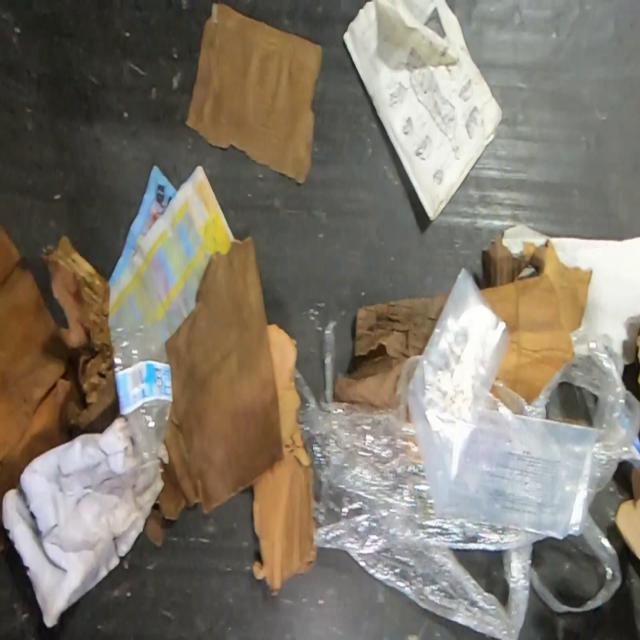cardboard: (0, 224, 120, 529), (480, 230, 593, 404), (250, 321, 319, 598), (334, 293, 448, 407), (614, 462, 640, 564)
rigid_plastic: (107, 318, 174, 479)
soft_plastic: (293, 317, 640, 639), (406, 265, 601, 541), (483, 326, 640, 508)
